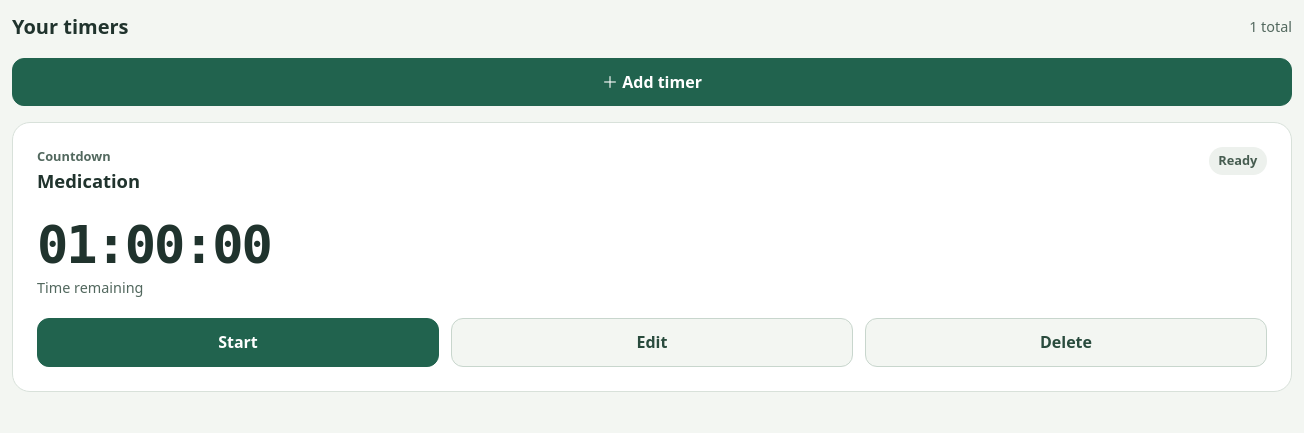
Scenario: Deleting timers › keeps the timer and allows retrying when deletion fails
Step 1. Click the button "Delete" → (1066,342), box [865,318,1267,367]
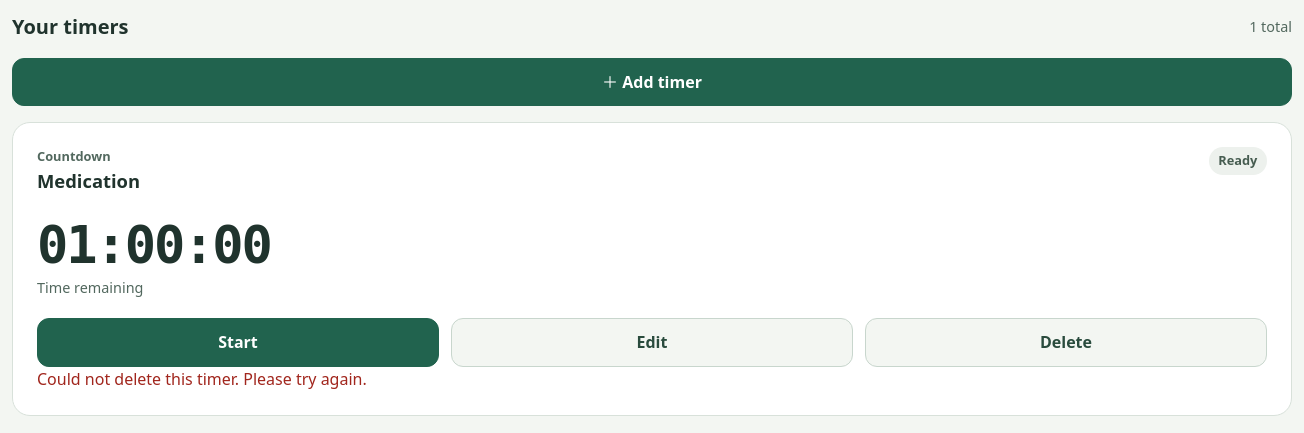
expect the message reads "Could not delete this timer. Please try again.": met, box [37,368,367,390]
Step 2. Click the button "Delete" → (1066,342), box [865,318,1267,367]
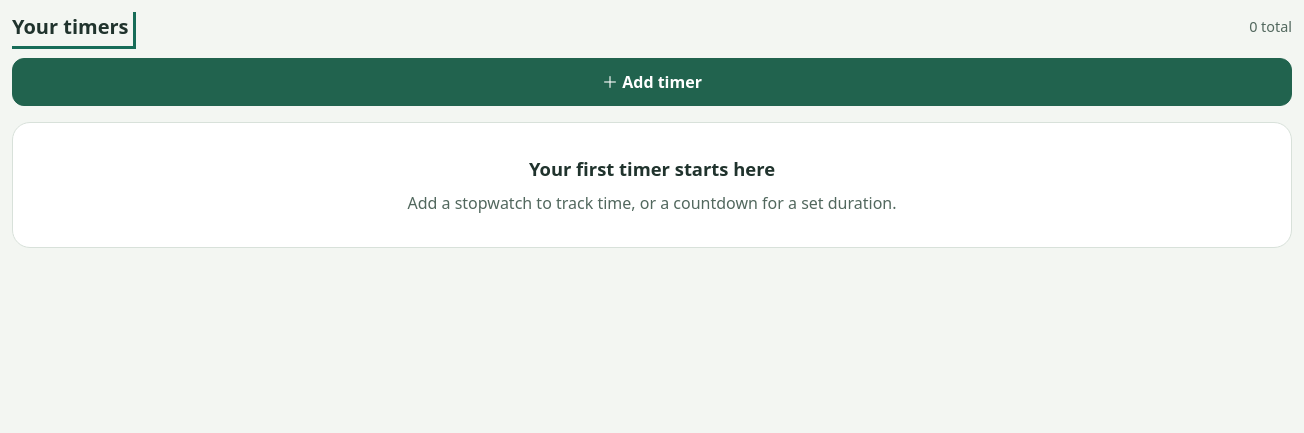
expect the heading "Your first timer starts here" is shown: met, box [529,156,775,181]
expect the message "Could not delete this timer. Please try again." is gone: met
